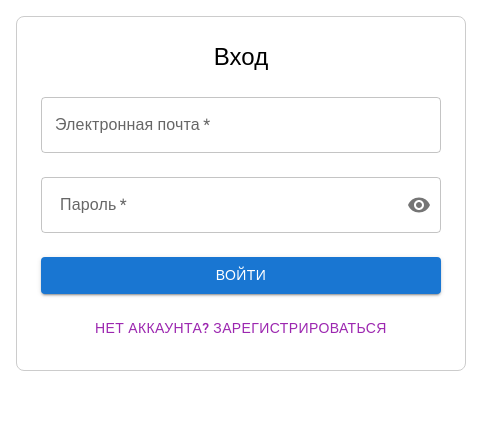
Test case: AuthForm navigation › does not establish a session or navigate after failed login
Type "user@example.com" into the field labelled "Электронная почта *".
click(241, 125); type("user@example.com")  # box [41,97,441,153]
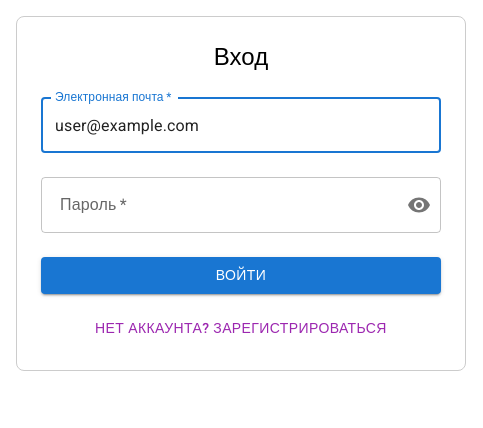
Type "password123" into the password field labelled "Пароль *".
click(216, 205); type("password123")  # box [41,177,391,233]
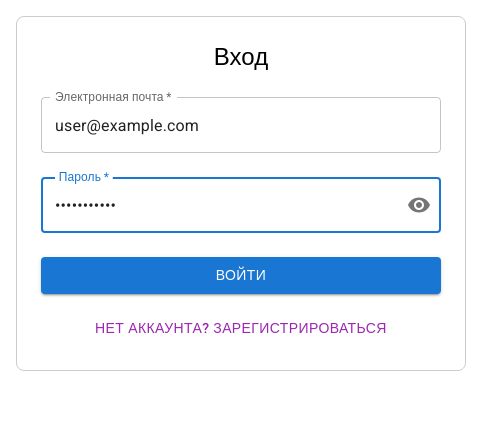
Click the button "Войти".
click(241, 276)  # box [41,257,441,294]
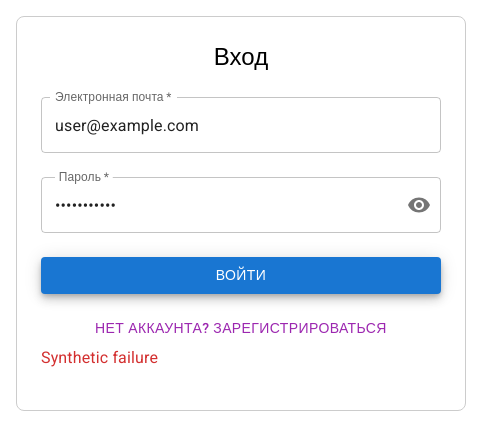
Now the text "Synthetic failure" is shown, box [41,348,158,367]
